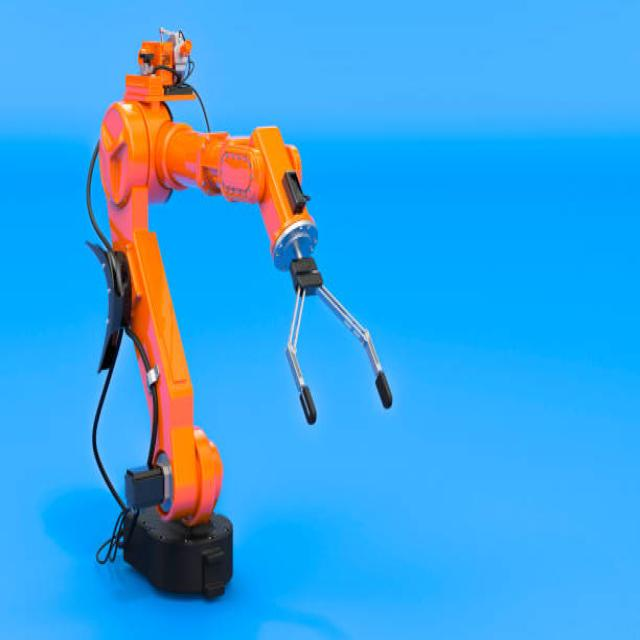Robotic-arm: (83, 22, 400, 606)
